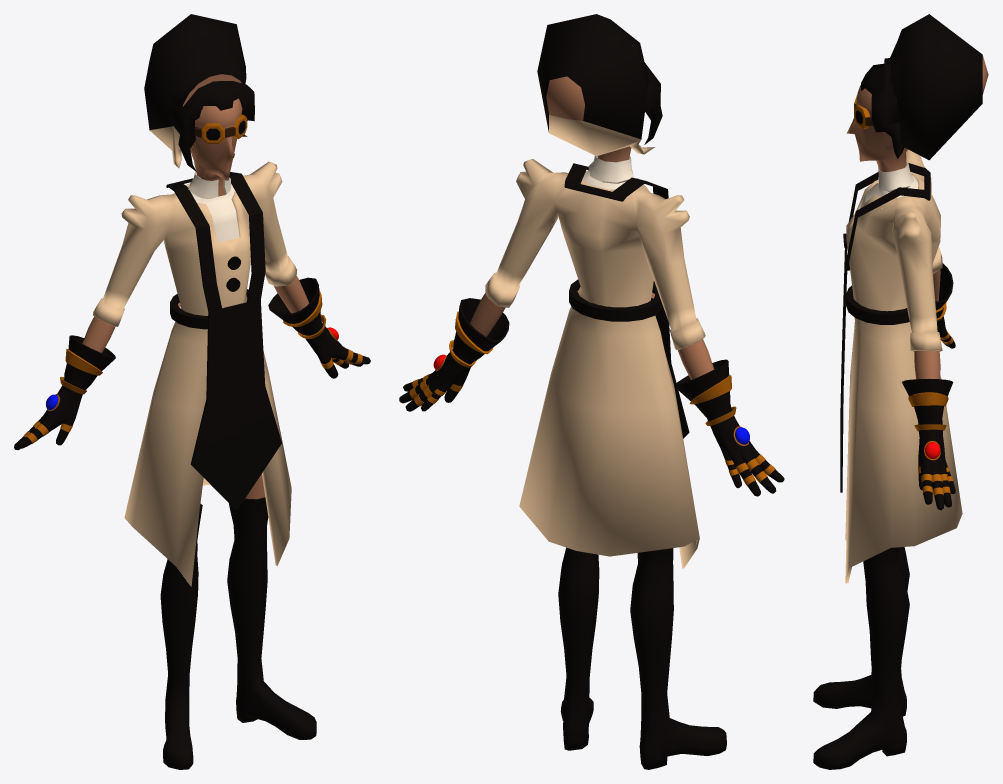
Rendered from polarity.FBX.
3 views of the same model, side by side, from view 1: azimuth 30°, elevation 25°; view 2: azimuth 150°, elevation 25°; view 3: azimuth 270°, elevation 25° (orthographic). The views are drawn at different scales.
Visible parts, largest first — view 1: PolarityLowPolyCopy; view 2: PolarityLowPolyCopy; view 3: PolarityLowPolyCopy.
Boxes of the visible parts, x1,y1,x2,y2 form: PolarityLowPolyCopy: (14,14,370,769); PolarityLowPolyCopy: (399,14,784,769); PolarityLowPolyCopy: (813,14,988,769).
Bounding box in the file's own units: 1.05 × 1.99 × 0.4394.
